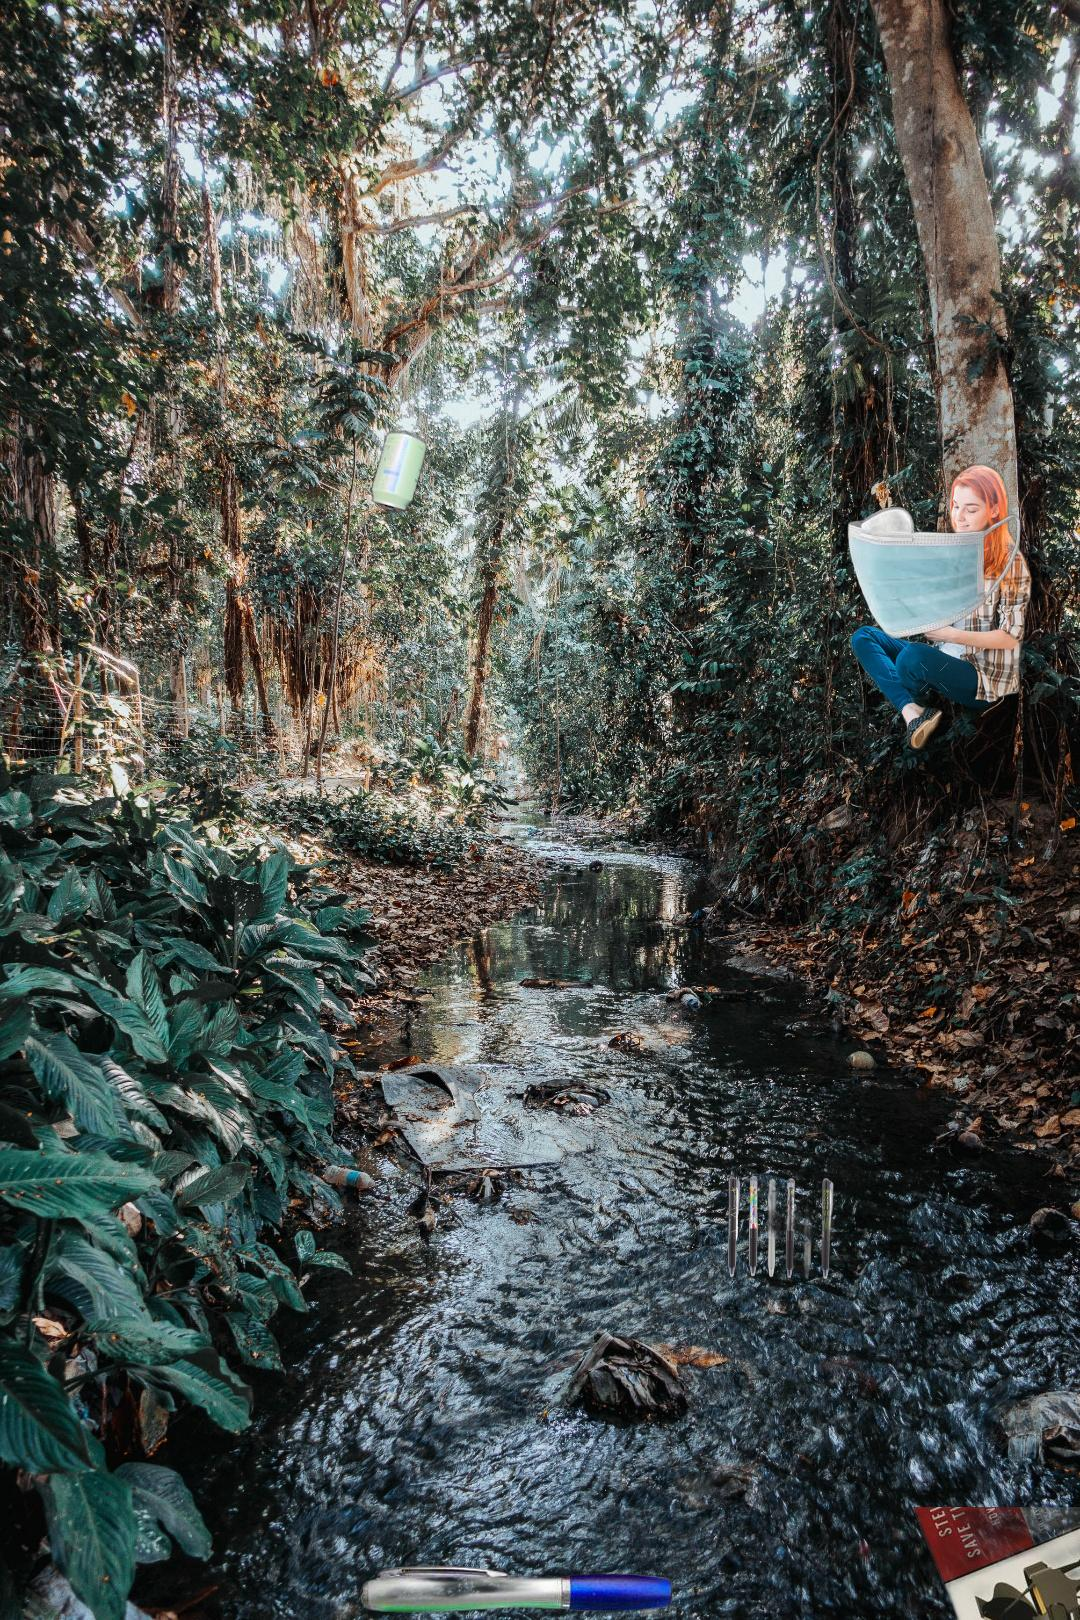metal-cans: (366, 425, 432, 520)
paper: (896, 1507, 1080, 1620)
penholder: (335, 1550, 710, 1620), (724, 1161, 843, 1291)
trash: (844, 504, 1025, 641)
trashbox-cardboard: (844, 462, 1035, 753)
